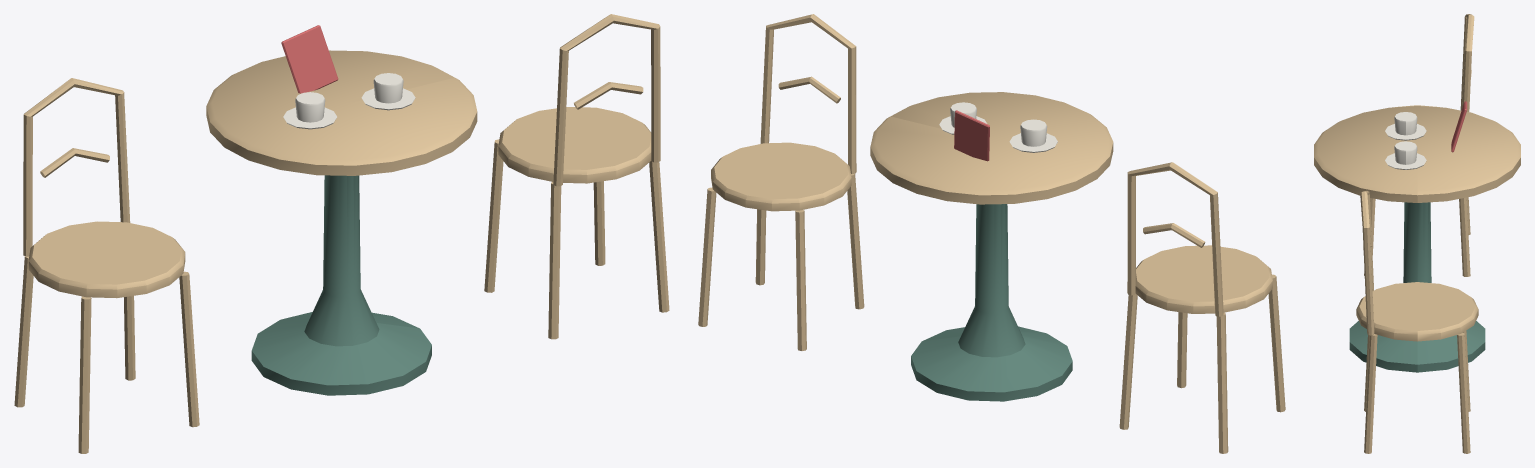
The picture shows the model from 3 angles, left to right: view 1: azimuth 30°, elevation 25°; view 2: azimuth 150°, elevation 25°; view 3: azimuth 270°, elevation 25°; orthographic projection. The views are drawn at different scales.
Parts seen in each view (by area): view 1: cafe-table-and-chairs; view 2: cafe-table-and-chairs; view 3: cafe-table-and-chairs.
Part boxes in pixels (x1,y1,x2,y2): cafe-table-and-chairs: [14, 14, 669, 453]; cafe-table-and-chairs: [698, 14, 1285, 453]; cafe-table-and-chairs: [1314, 14, 1520, 453].
Bounding box in the file's own units: 1.86 × 0.9137 × 0.7126.
